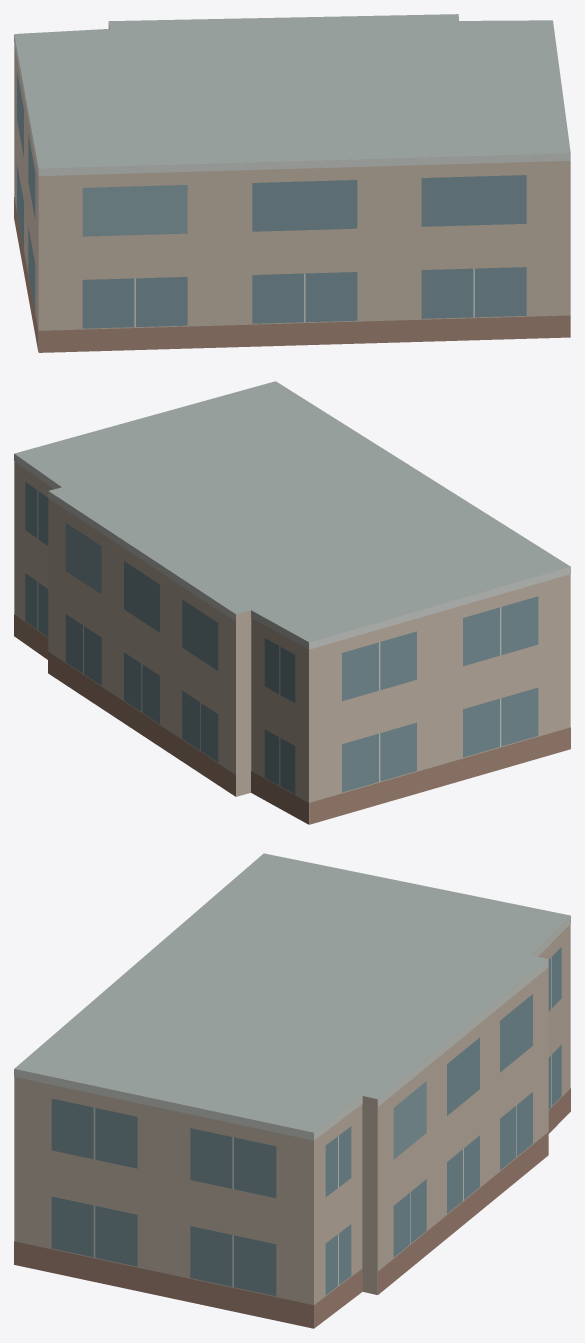
File: survey-upis-32892308.glb
The picture shows the model from 3 angles, top to bottom: view 1: azimuth 30°, elevation 25°; view 2: azimuth 150°, elevation 25°; view 3: azimuth 270°, elevation 25°; orthographic projection. The views are drawn at different scales.
Visible parts, largest first — view 1: survey-upis-32892308.tmp; view 2: survey-upis-32892308.tmp; view 3: survey-upis-32892308.tmp.
Boxes of the visible parts, left/top/right/bottom form: survey-upis-32892308.tmp: left=14, top=14, right=570, bottom=352; survey-upis-32892308.tmp: left=14, top=381, right=570, bottom=824; survey-upis-32892308.tmp: left=14, top=853, right=570, bottom=1328.
Bounding box in the file's own units: 18.36 × 6 × 15.46.
